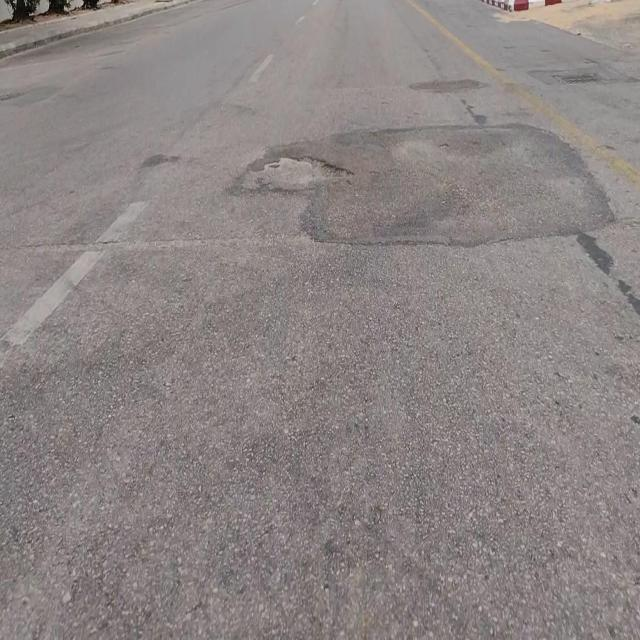Potholes: (259, 152, 354, 192)
